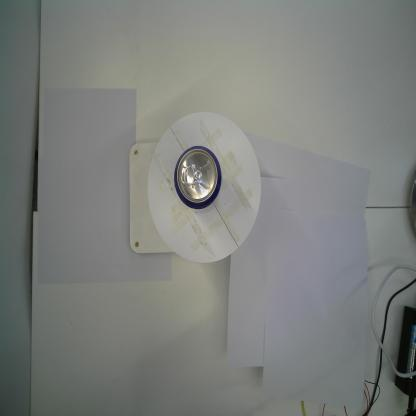Alcohol: (173, 144, 222, 210)
